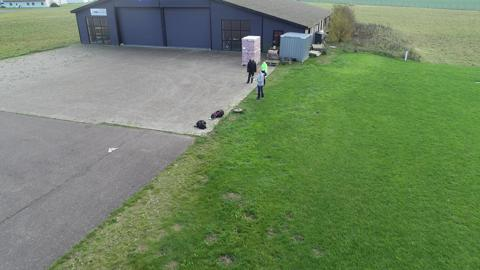RockwoolPallet: (241, 35, 261, 67)
